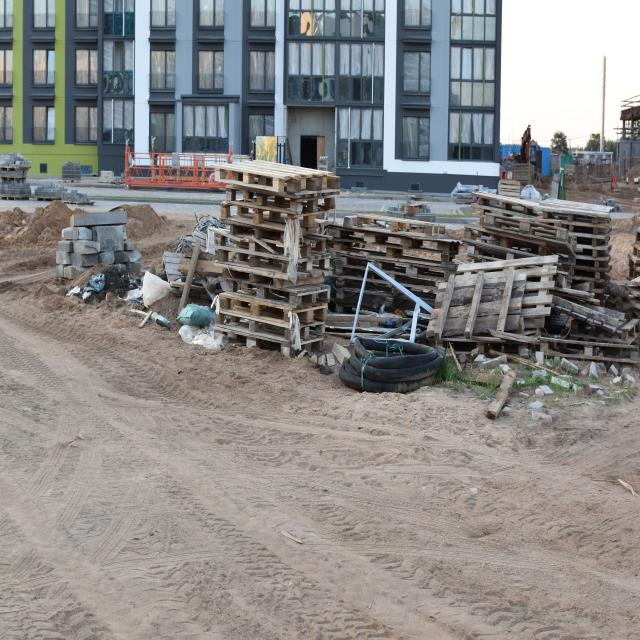entulho: (441, 302, 638, 421), (213, 160, 330, 352), (326, 213, 479, 331), (476, 193, 618, 305), (133, 207, 229, 357), (339, 333, 446, 402), (54, 208, 140, 283), (0, 153, 94, 203), (623, 217, 640, 303), (501, 162, 536, 192)
terra: (2, 196, 91, 254), (110, 196, 165, 238)
